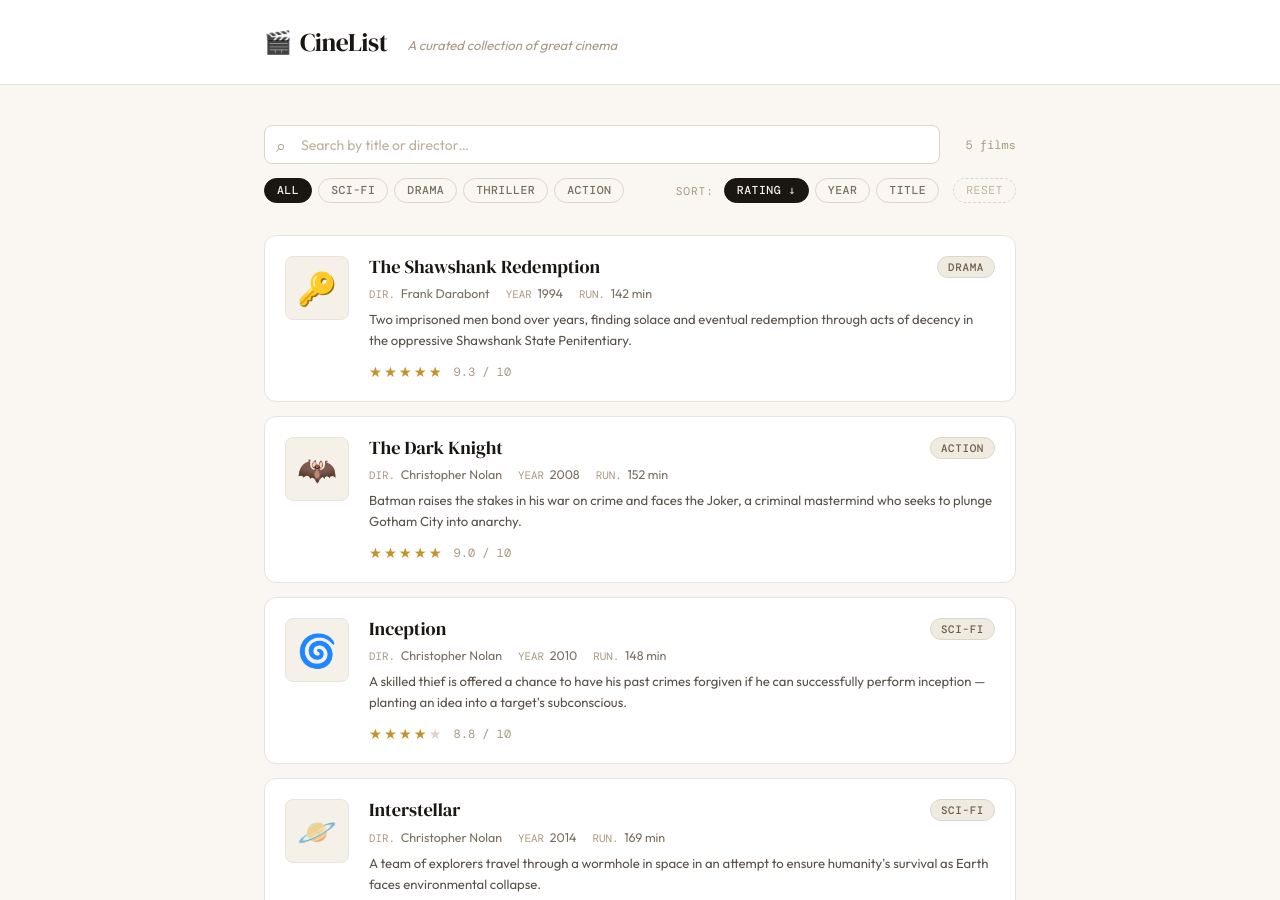
App integration › filters movies when user types in search
Type "Parasite" into the search field with placeholder "Search by title or director…".
click(602, 145); type("Parasite")  # box [264, 125, 940, 164]
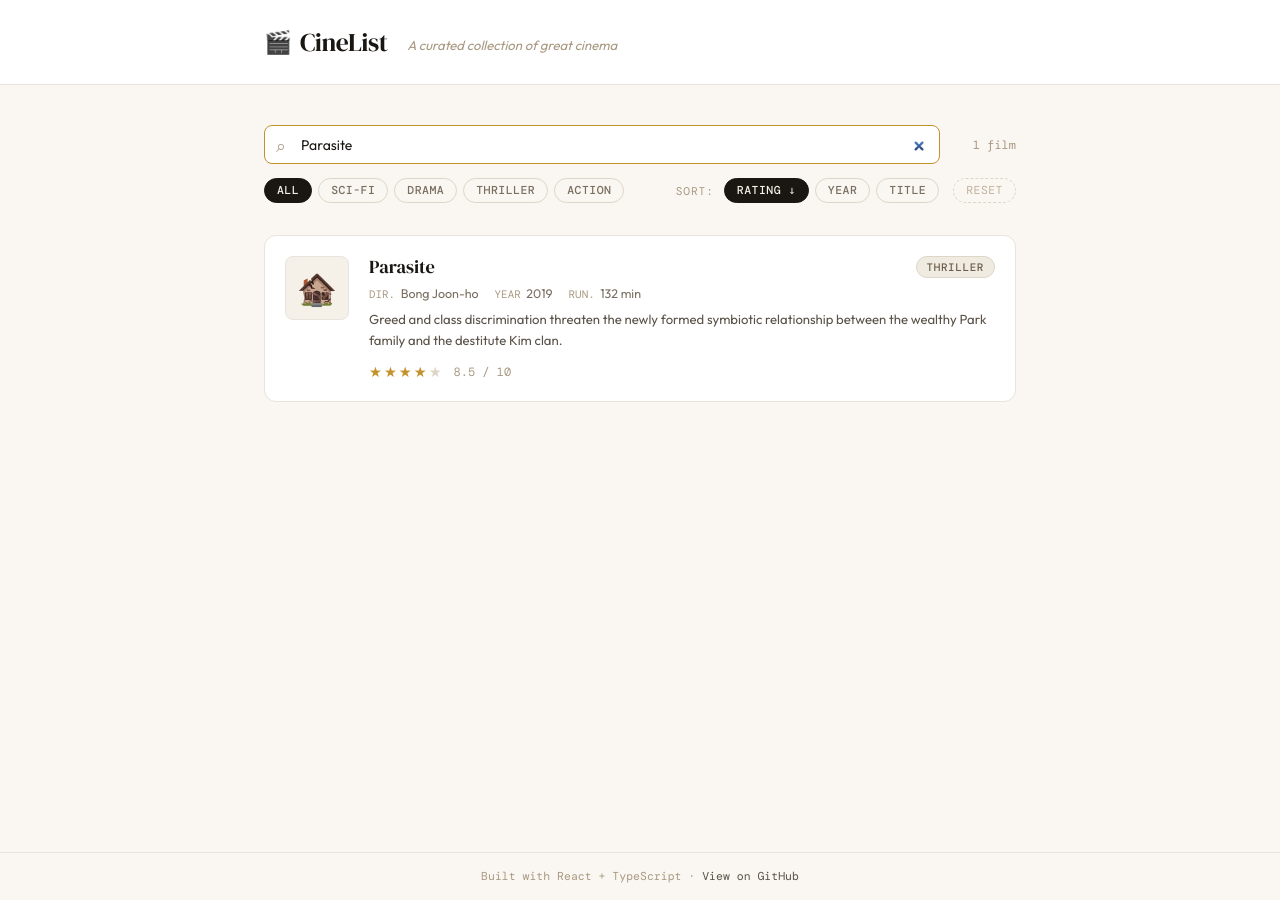
Expected: the heading "Parasite" is shown, [369, 256, 435, 278]
Expected: the number of elements with test id "movie-card" is 1, [264, 235, 1016, 402]
